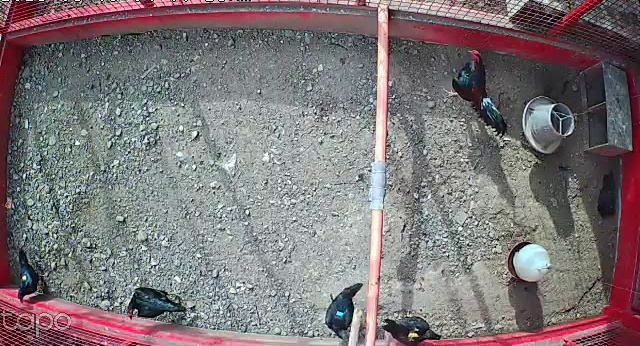Chicken: (322, 276, 366, 341), (376, 311, 455, 346), (13, 250, 52, 310), (126, 286, 192, 321), (596, 170, 619, 221)
Rooster: (440, 40, 509, 133)
Saddle_Color_Blue: (337, 310, 344, 318)
Saddle_Color_Yellow: (407, 325, 420, 340)
